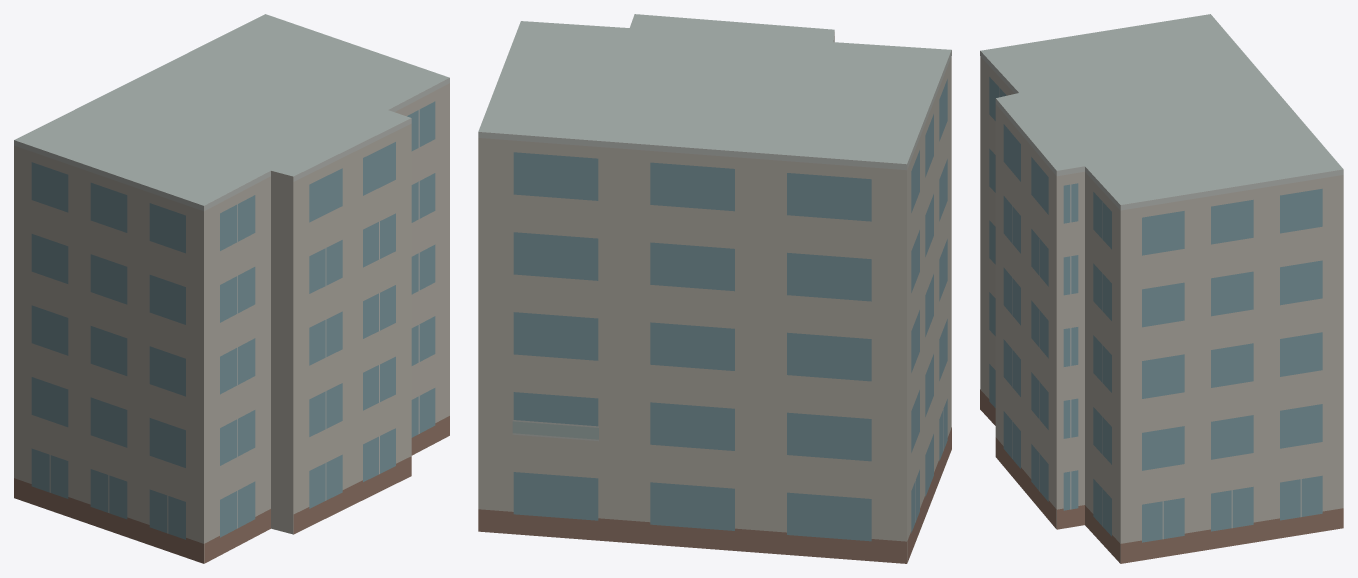
The model's file is survey-upis-32972824.glb.
3 views of the same model, side by side, from view 1: azimuth 30°, elevation 25°; view 2: azimuth 150°, elevation 25°; view 3: azimuth 270°, elevation 25° (orthographic). The views are drawn at different scales.
Visible parts, largest first — view 1: survey-upis-32972824.tmp; view 2: survey-upis-32972824.tmp; view 3: survey-upis-32972824.tmp.
Boxes of the visible parts, box(x1,y1,x2,y2) form: survey-upis-32972824.tmp: box(14, 14, 449, 563); survey-upis-32972824.tmp: box(478, 14, 951, 563); survey-upis-32972824.tmp: box(980, 14, 1343, 563).
Bounding box in the file's own units: 18.42 × 16.11 × 14.8.
